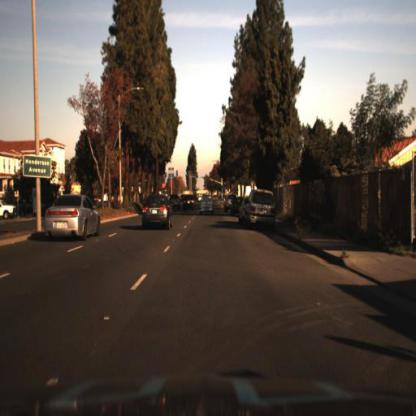car: (42, 188, 105, 246), (138, 197, 177, 236), (245, 187, 280, 225), (199, 193, 215, 218), (183, 198, 199, 222), (168, 194, 182, 215)
